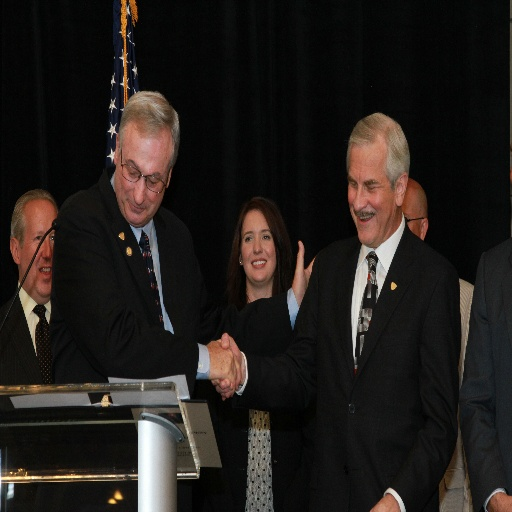hand: (211, 329, 245, 403), (291, 238, 317, 304), (368, 496, 399, 511), (488, 491, 511, 511)
